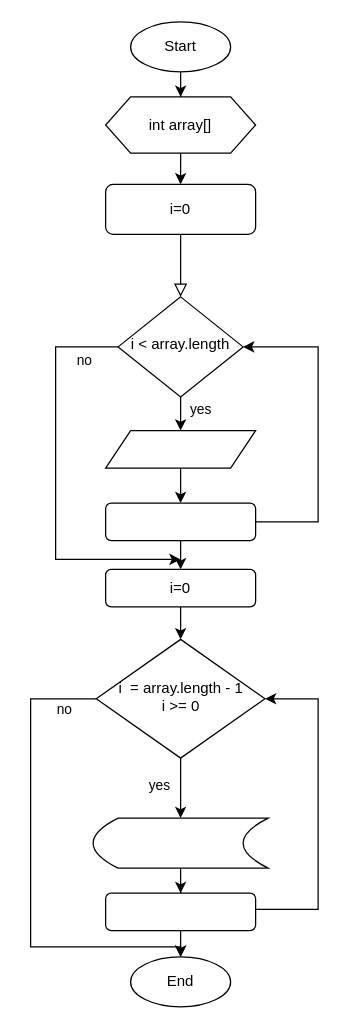
This 350x1029 diagram has some shape labels left out. Here are the shapes that lost their labels. From the top down, the box of each, then its label:
(104, 429, 256, 468): input array[i]
(104, 502, 256, 541): i++
(92, 817, 268, 868): print i, array[i]
(104, 892, 256, 931): i--
